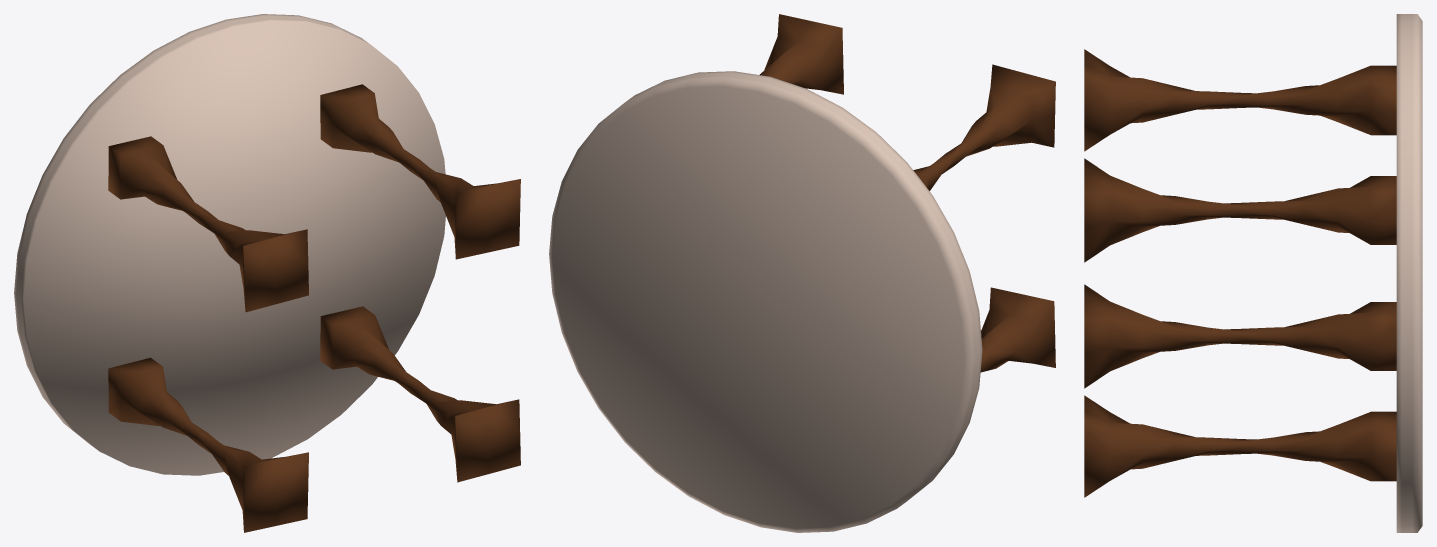
The model's file is table.FBX.
The picture shows the model from 3 angles, left to right: view 1: azimuth 30°, elevation 25°; view 2: azimuth 150°, elevation 25°; view 3: azimuth 270°, elevation 25°; orthographic projection. The views are drawn at different scales.
Visible parts, largest first — view 1: tableTop; view 2: tableTop; view 3: tableTop.
Boxes of the visible parts, x1,y1,x2,y2 form: tableTop: (14, 14, 520, 532); tableTop: (549, 14, 1055, 532); tableTop: (1084, 14, 1422, 532).
Bounding box in the file's own units: 50.8 × 50.8 × 33.02.
